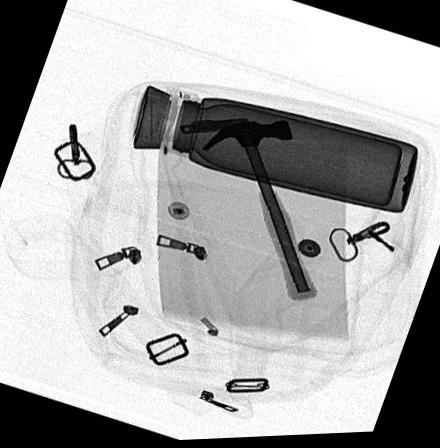Hammer: (200, 121, 319, 303)
